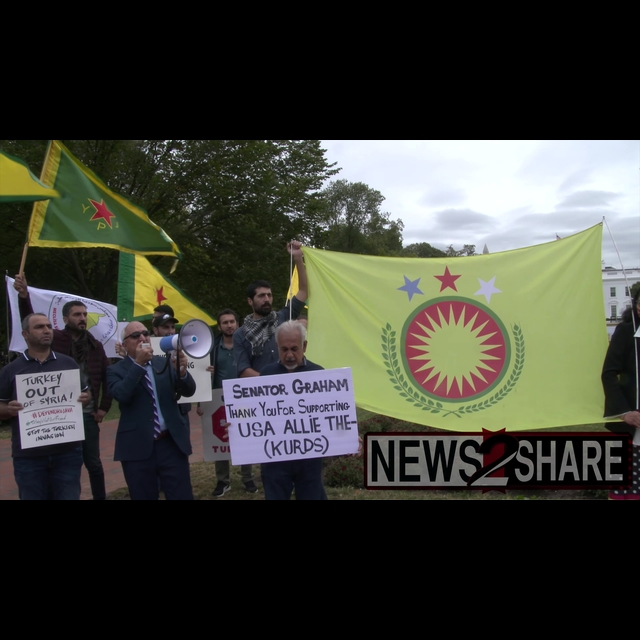YPJ: (72, 193, 121, 236)
